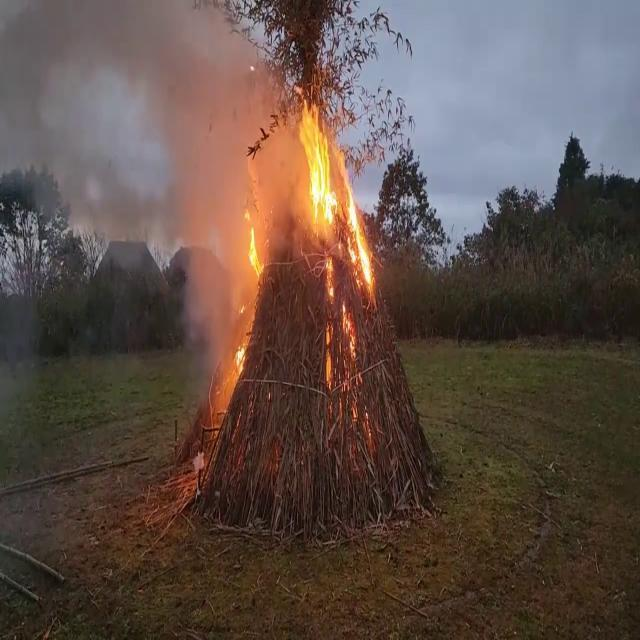Fire: (297, 83, 375, 353), (228, 198, 266, 380)
Smoke: (1, 0, 294, 260)
